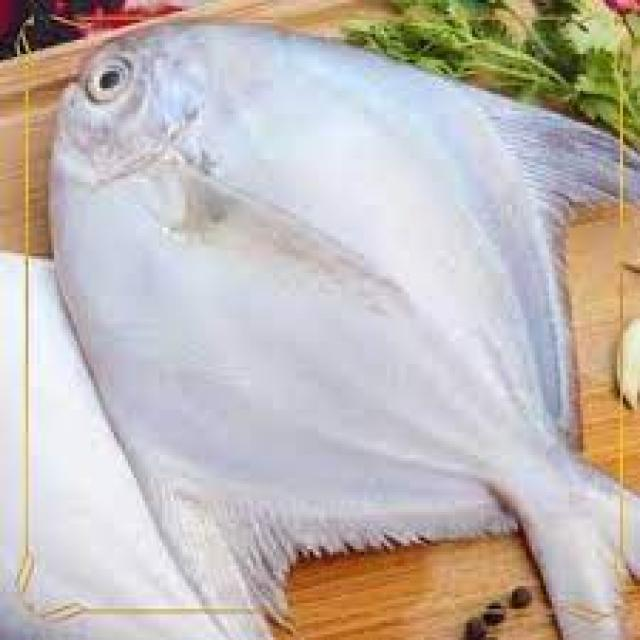pomfred: (53, 20, 637, 637)
